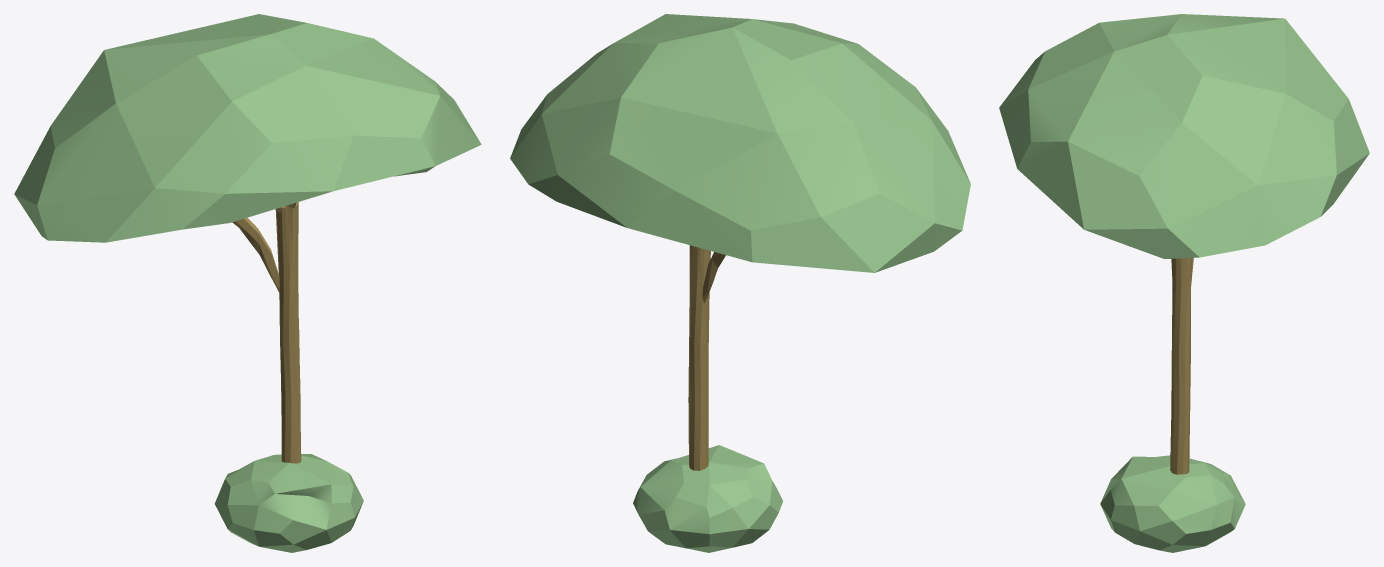
File: RoadTree.fbx
The picture shows the model from 3 angles, left to right: view 1: azimuth 30°, elevation 25°; view 2: azimuth 150°, elevation 25°; view 3: azimuth 270°, elevation 25°; orthographic projection. The views are drawn at different scales.
Visible parts, largest first — view 1: RoadTree3; view 2: RoadTree3; view 3: RoadTree3.
Boxes of the visible parts, x1=… form: RoadTree3: x1=14, y1=14, x2=481, y2=552; RoadTree3: x1=510, y1=14, x2=970, y2=552; RoadTree3: x1=999, y1=14, x2=1369, y2=552.
Bounding box in the file's own units: 6.47 × 7.6 × 5.13.
